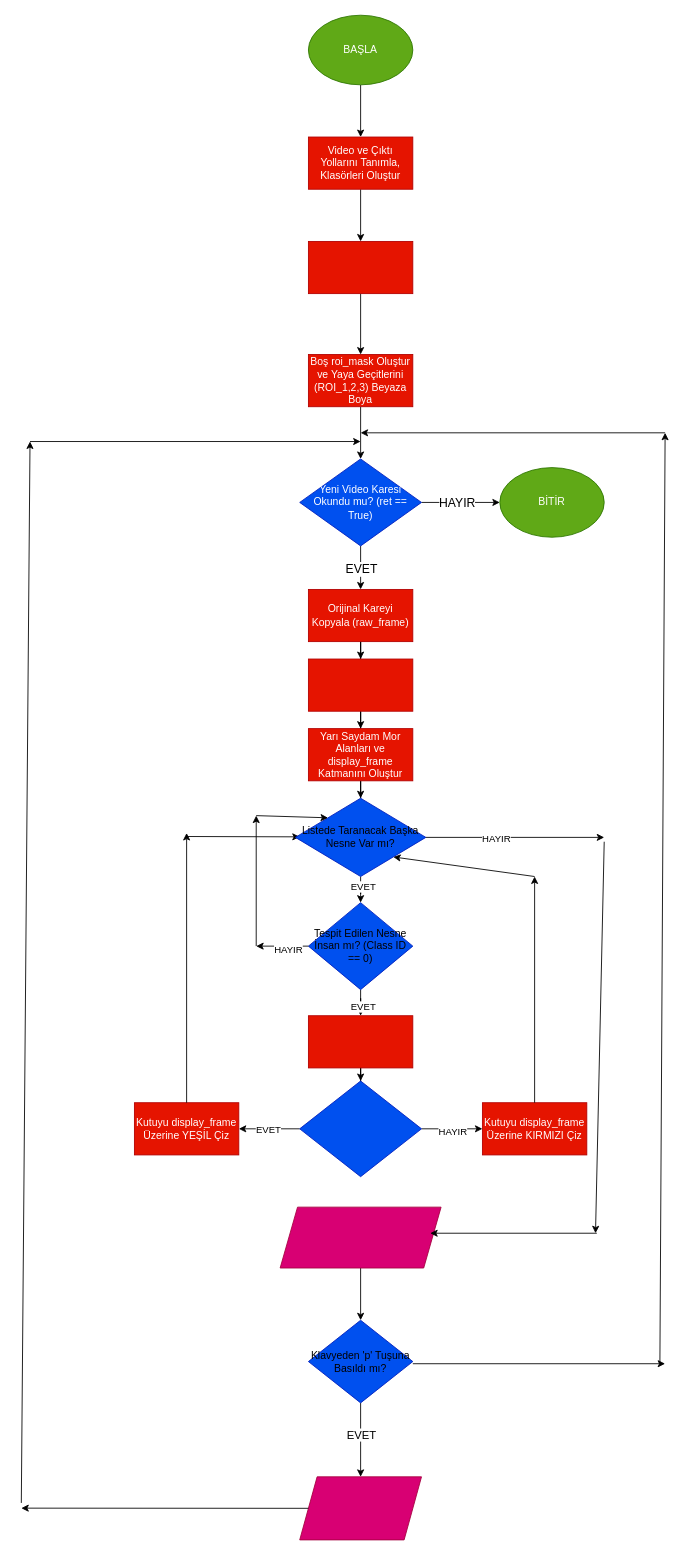
This 687x1556 diagram has some shape labels left out. Here are the shapes that lost their labels. From the top down, the centre of each, then its label:
point 360,267: SAHI + YOLOv11n Modelini GPU/CPU Belleğine Yükle
point 360,684: SAHI Sliced Prediction: Görüntüyü 640x640 Dilimlere Böl ve Modele Sok
point 360,1041: Kutu Koordinatlarını Sınırla ve roi_mask'ten Kesit Al (kutu_ici_maske)
point 360,1128: Kesitin İçinde Beyaz Piksel Var mı? (countNonZero > 0)
point 360,1237: FPS Hesapla, display_frame'i Ekranda Göster ve Çıktı Videosuna Kaydet
point 360,1508: raw_frame'i debug_goruntuleri Klasörüne .jpg Olarak Kaydet
